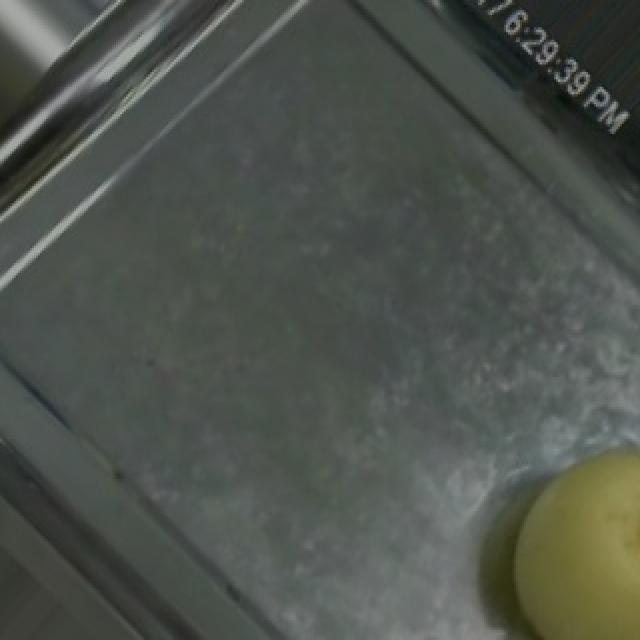Fruit: (482, 416, 640, 640)
